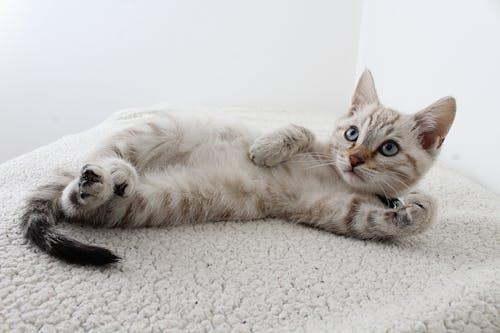kedo: (1, 68, 456, 266)
